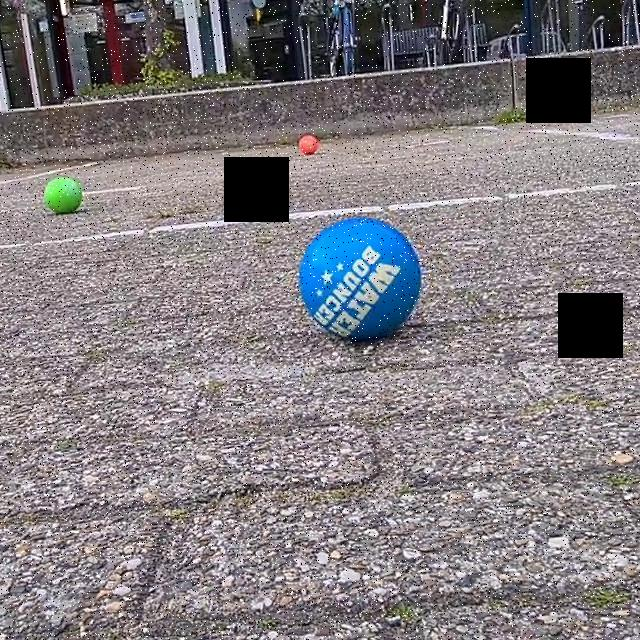ball: (42, 173, 86, 218), (294, 130, 321, 159)
